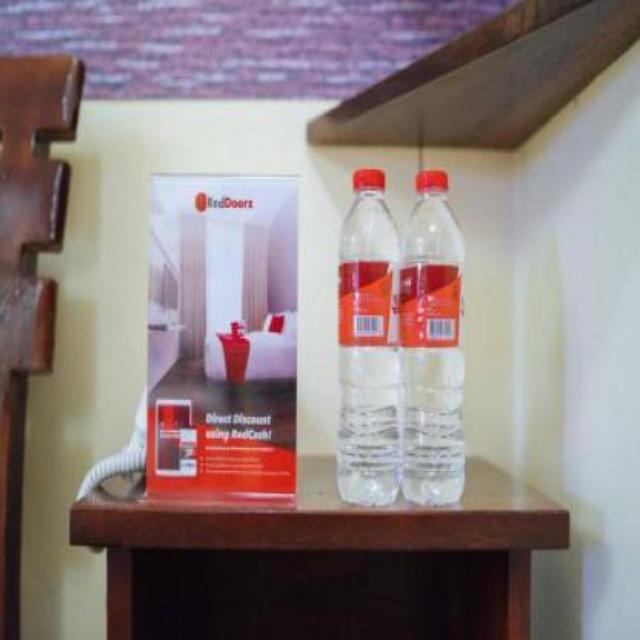bottle: (392, 159, 473, 517), (331, 160, 407, 518)
